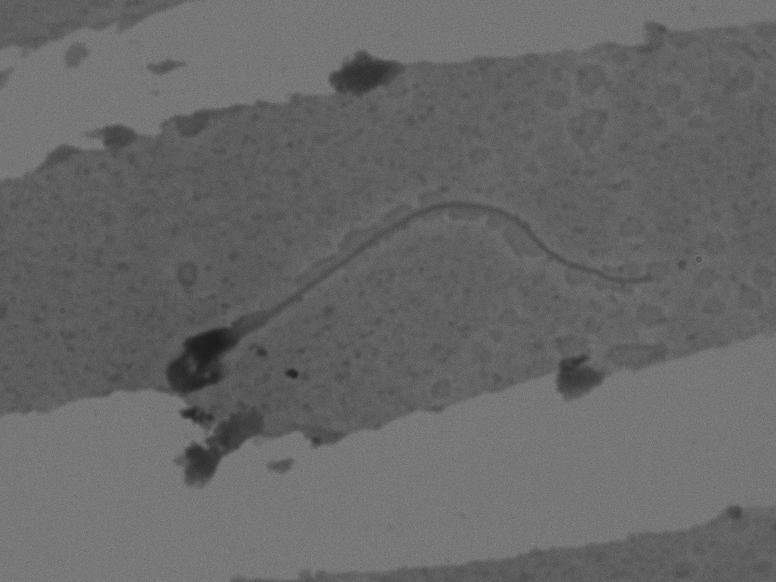Abnormal: (136, 171, 673, 398)
